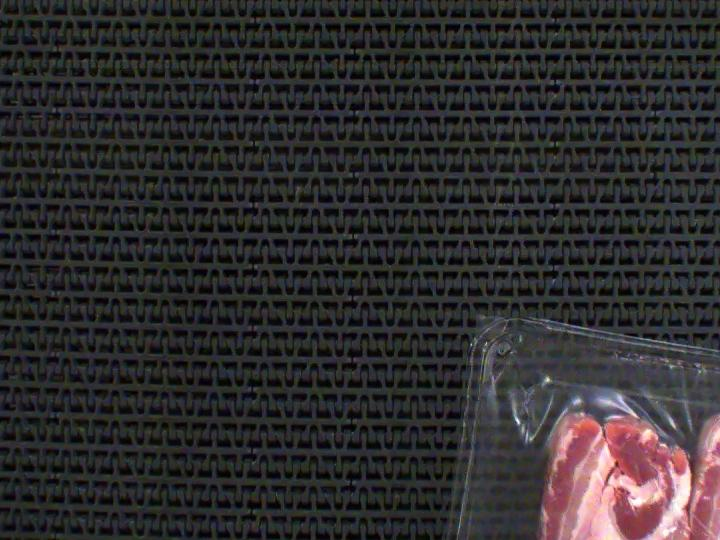unsealed: (487, 325, 720, 540)
